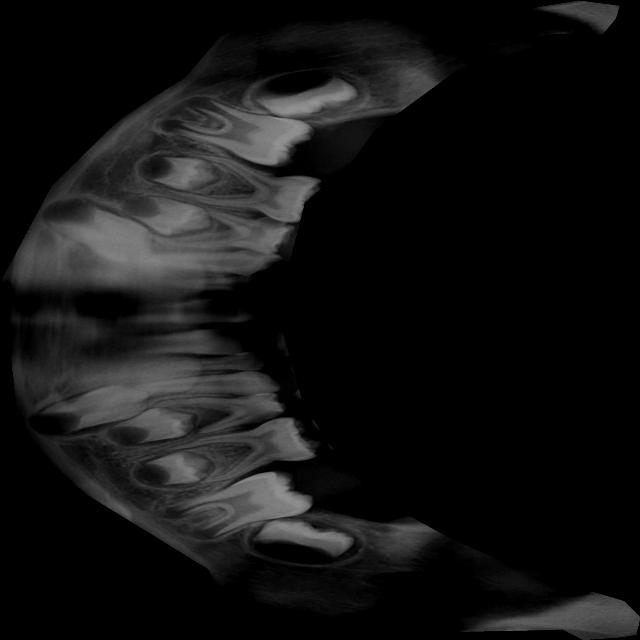mandibula: (0, 0, 640, 640)
